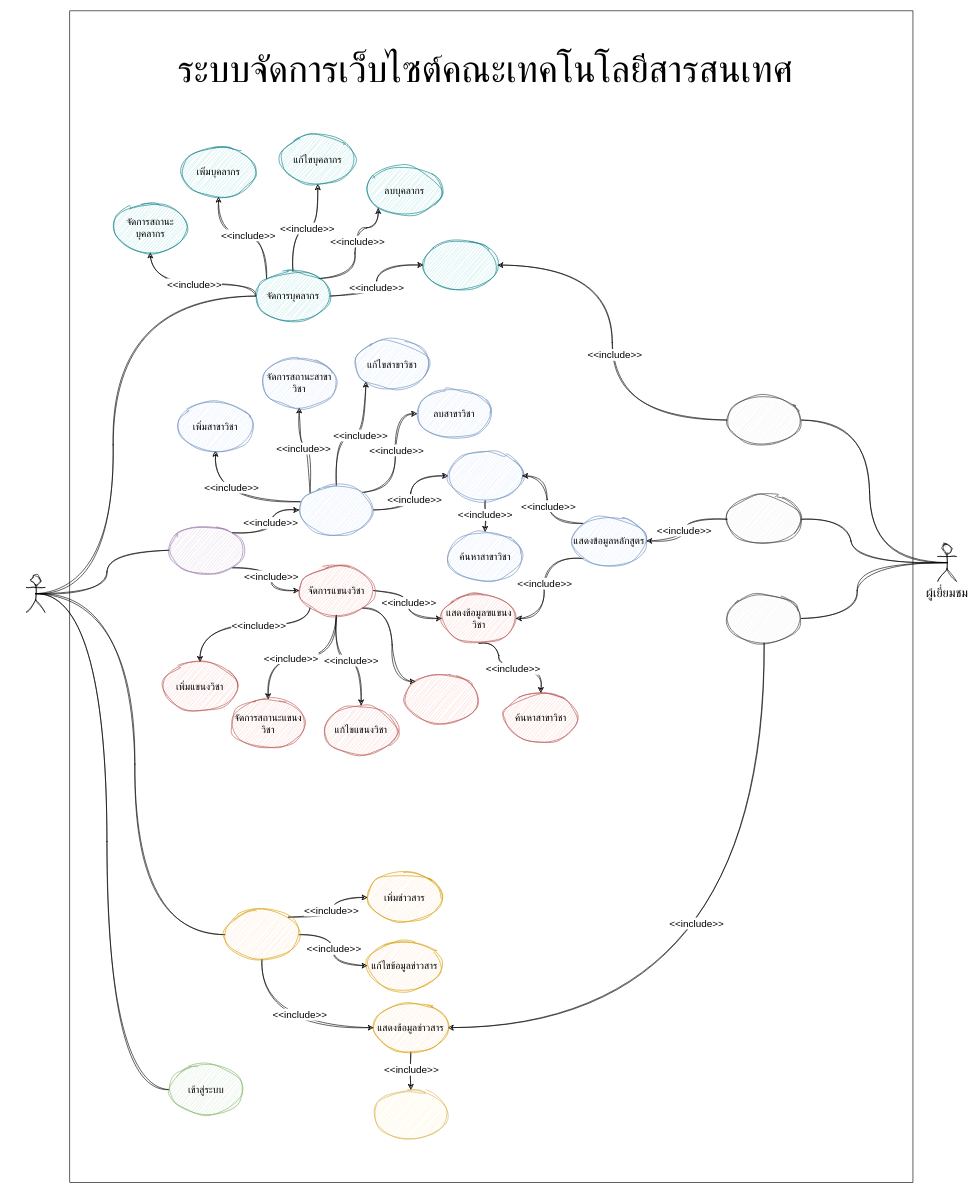
Some shapes in this 979 by 1194 pixel diagram are drawn without their labels. Here are the shapes that lost their labels. From the top down, the centre of each, then its label:
At point 460,265: "แสดงข้อมูลบุคลากร".
At point 763,420: "เข้าชมบุคลากร".
At point 484,475: "แสดงข้อมูล สาขาวิชา".
At point 336,510: "จัดการสาขาวิชา".
At point 763,519: "เข้าชมหลักสูตร".
At point 205,550: "จัดการหลักสูตร".
At point 35,593: "ผู้ดูแลระบบ".
At point 763,618: "เข้าชมข่าวสาร".
At point 441,699: "ลบแขนงวิชา".
At point 261,934: "จัดการข่าวสารคณะ".
At point 410,1114: "ค้นหาข่าวสาร".
